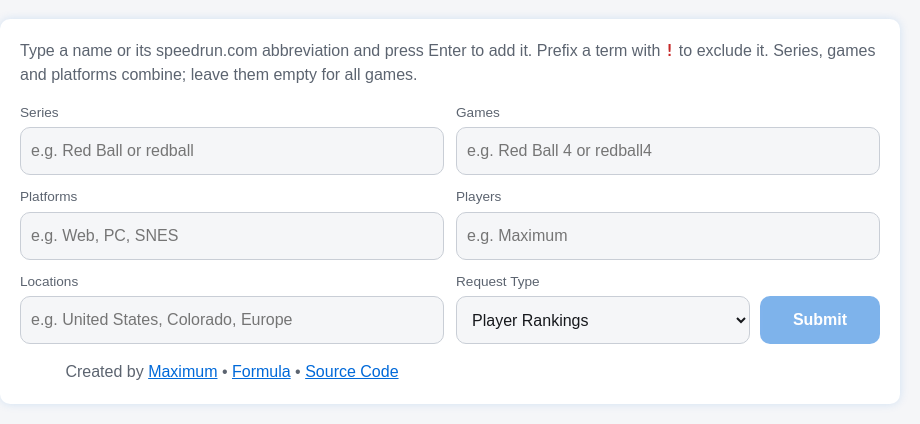
QueryForm submit button › enables when the request type changes and disables again when it is changed back
Select "Runs by Player(s)" in the dropdown labelled "Request Type": (603,320) x1=456 y1=296 x2=750 y2=344
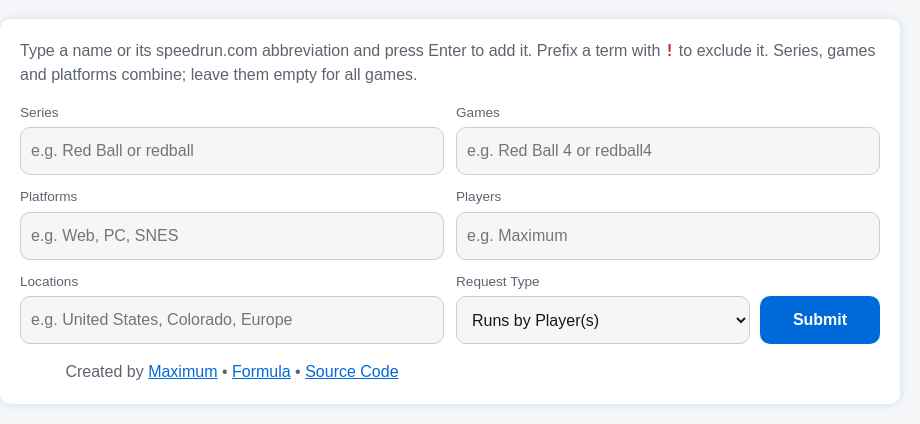
Expected: the button "Submit" is enabled, x1=760 y1=296 x2=880 y2=344
Select "Player Rankings" in the dropdown labelled "Request Type": (603,320) x1=456 y1=296 x2=750 y2=344
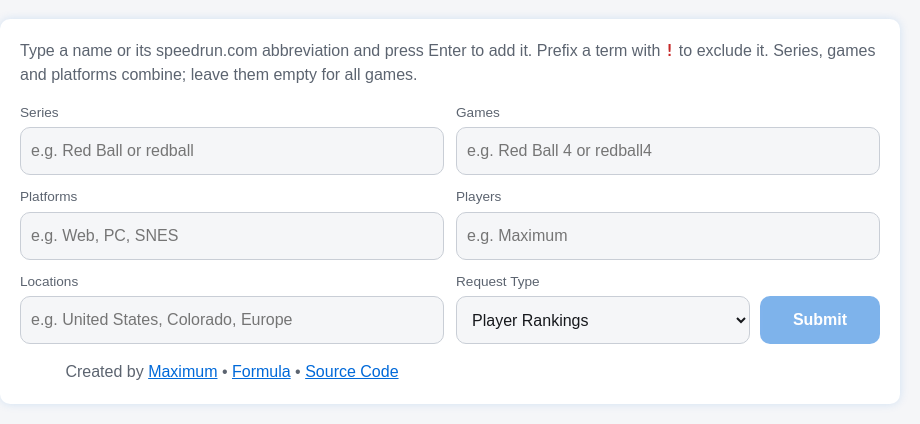
Expected: the button "Submit" is disabled, x1=760 y1=296 x2=880 y2=344
